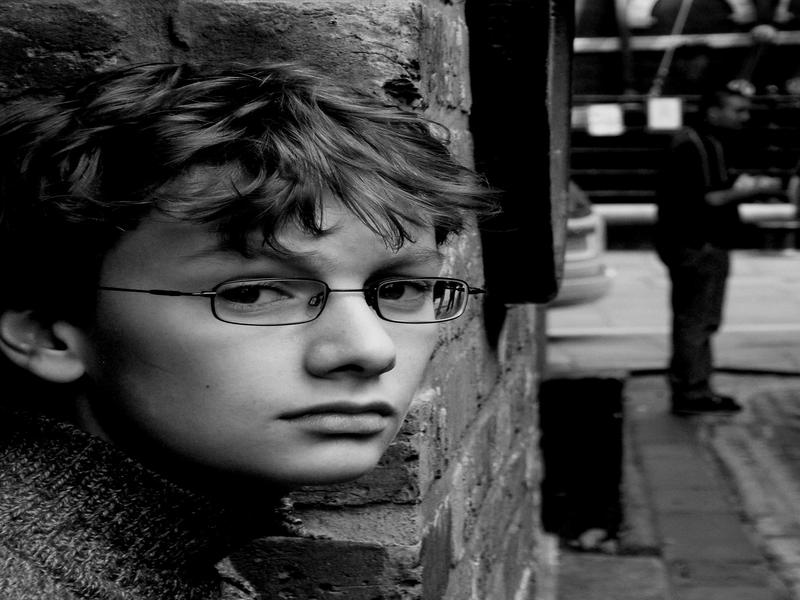person: (1, 56, 478, 598)
